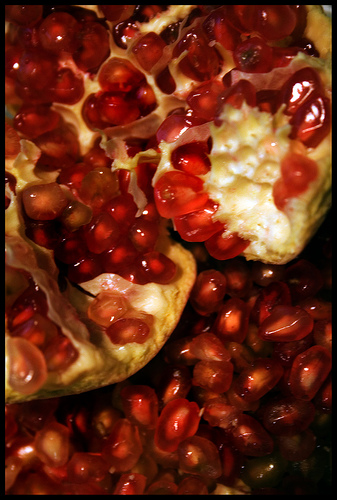pomogranate: (2, 0, 335, 498)
